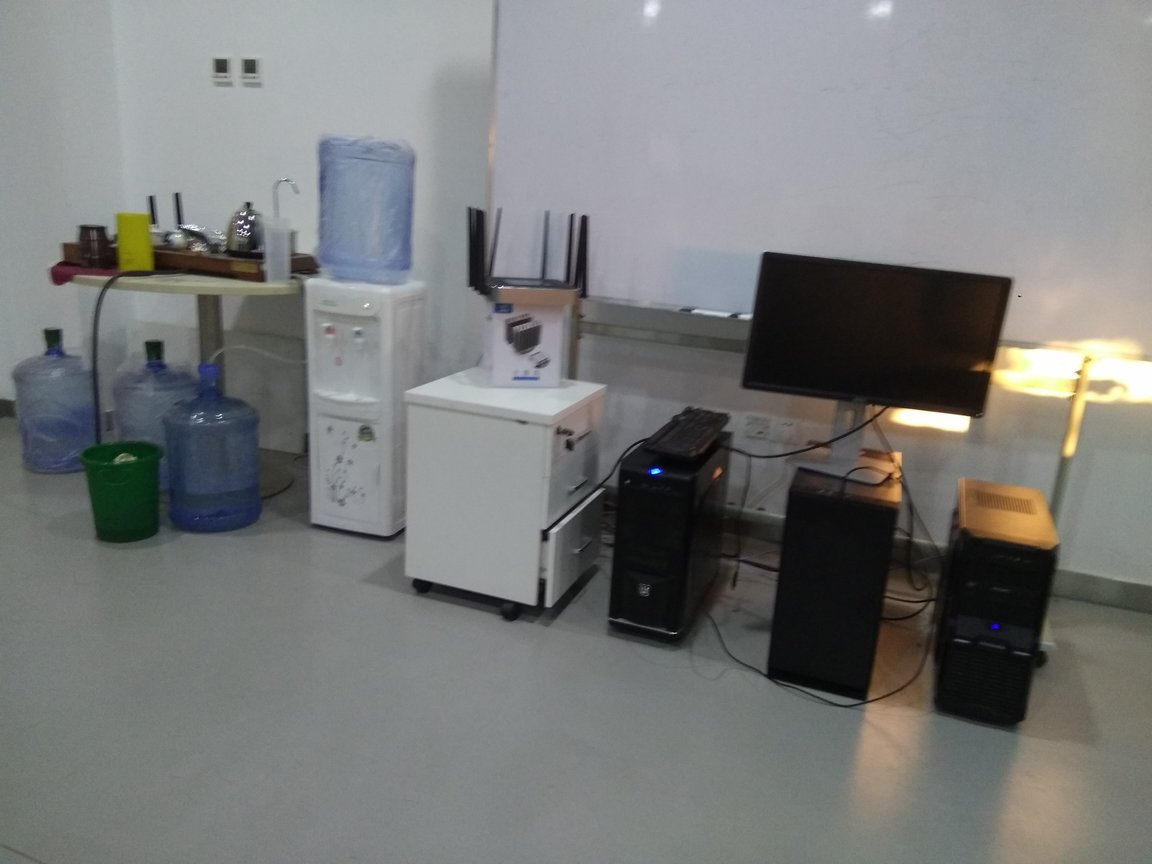computer: (776, 438, 896, 717), (933, 474, 1050, 736), (609, 424, 724, 652)
drawer chest: (399, 351, 603, 633)
monitor: (745, 242, 1009, 484)
scuttlebutt: (160, 360, 269, 544), (314, 131, 428, 293), (14, 320, 103, 482), (113, 342, 196, 498)
water dispenser: (302, 269, 414, 552)
